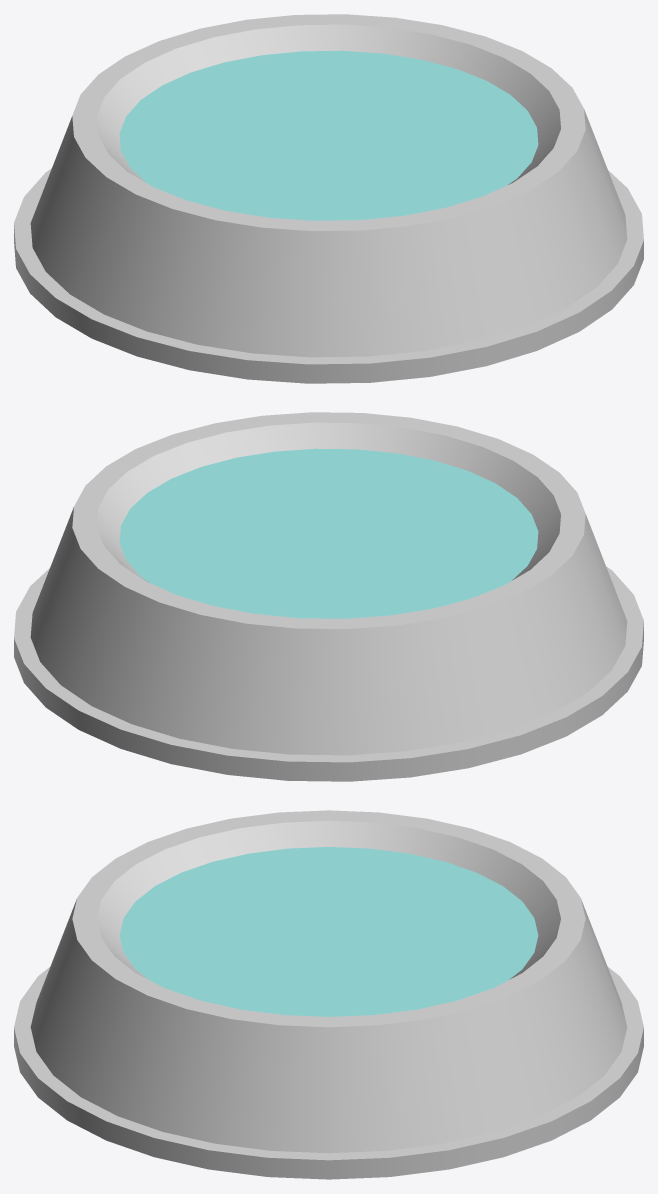
The model's file is cat woter ver1 in woter.fbx.
The picture shows the model from 3 angles, top to bottom: view 1: azimuth 30°, elevation 25°; view 2: azimuth 150°, elevation 25°; view 3: azimuth 270°, elevation 25°; orthographic projection.
Parts seen in each view (by area): view 1: 円, 円柱; view 2: 円, 円柱; view 3: 円, 円柱.
Boxes of the visible parts, bbox=[...] form: 円: bbox=[14, 14, 643, 383]; 円柱: bbox=[119, 50, 538, 220]; 円: bbox=[14, 412, 643, 781]; 円柱: bbox=[119, 448, 538, 618]; 円: bbox=[14, 810, 643, 1179]; 円柱: bbox=[119, 847, 538, 1016].
Bounding box in the file's own units: 200 × 44.71 × 200.
